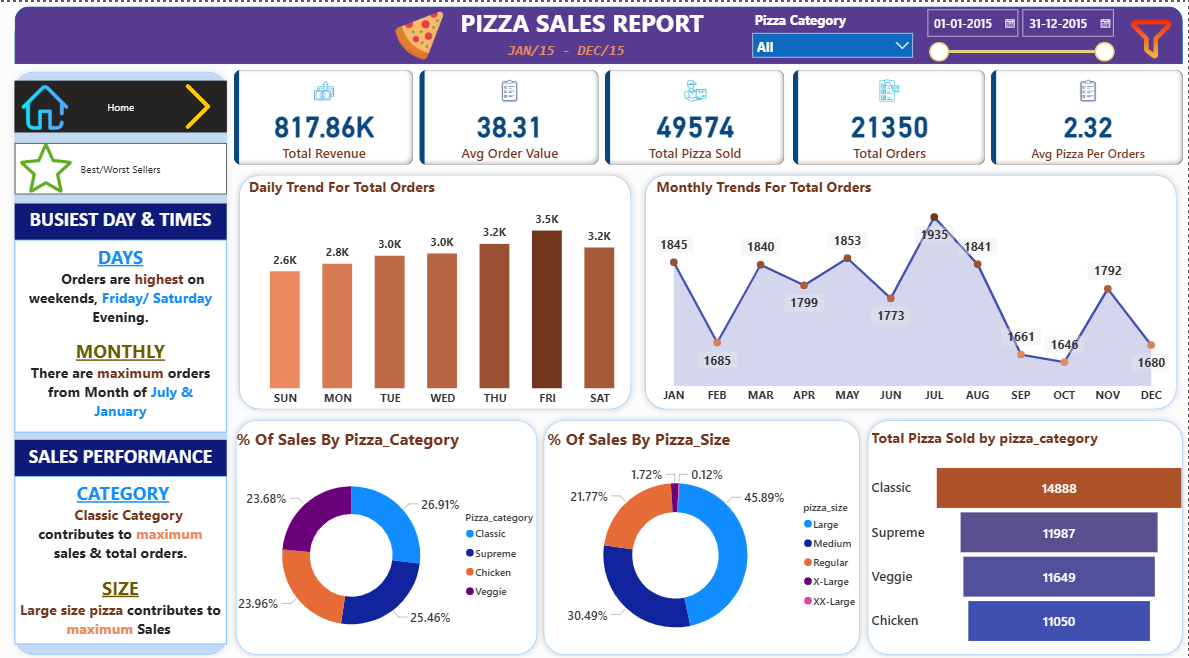

This screenshot's page, from the dashboard's own definition file:
{"tool":"powerbi","page":{"name":"Home","canvas":[1573,870],"ordinal":0},"visuals":[{"type":"cardVisual","fields":{"Data":["pizza_sales.Total Revenue","pizza_sales.Avg Order Value","pizza_sales.Total Pizza Sold"]},"box":[306,84,738,136],"z":0},{"type":"cardVisual","fields":{"Data":["pizza_sales.Total Orders","pizza_sales.Avg Pizza Per Orders"]},"box":[1044,84,526,136],"z":1000},{"type":"shape","box":[22,6,1542,76],"z":2000},{"type":"textbox","box":[588,0,366,56],"z":3000},{"type":"textbox","box":[668,48,182,34],"z":4000},{"type":"image","box":[512,6,88,76],"z":5000},{"type":"shape","box":[310,220,534,326],"z":6000},{"type":"columnChart","title":"Daily Trend For Total Orders","fields":{"Category":["pizza_sales.Order Day"],"Y":["pizza_sales.Total Orders"]},"box":[326,230,522,314],"z":7000},{"type":"shape","box":[846,220,718,326],"z":8000},{"type":"areaChart","title":"Monthly Trends For Total Orders","fields":{"Category":["pizza_sales.Order Month"],"Y":["pizza_sales.Total Orders"]},"box":[864,230,686,310],"z":9000},{"type":"shape","box":[306,544,414,326],"z":10000},{"type":"shape","box":[1140,544,432,326],"z":11000},{"type":"shape","box":[14,84,296,786],"z":12000},{"type":"shape","box":[712,544,434,326],"z":13000},{"type":"donutChart","title":"% Of Sales By Pizza_Size","fields":{"Y":["pizza_sales.Total Revenue"],"Category":["pizza_sales.pizza_size"]},"box":[720,562,430,308],"z":14000},{"type":"donutChart","title":"% Of Sales By Pizza_Category","fields":{"Y":["pizza_sales.Total Revenue"],"Category":["pizza_sales.pizza_category"]},"box":[310,562,424,308],"z":15000},{"type":"funnel","fields":{"Category":["pizza_sales.pizza_category"],"Y":["pizza_sales.Total Pizza Sold"]},"box":[1148,562,424,308],"z":16000},{"type":"textbox","box":[22,266,280,48],"z":17000},{"type":"textbox","box":[22,314,280,254],"z":18000},{"type":"textbox","box":[22,578,280,48],"z":19000},{"type":"textbox","box":[22,626,280,222],"z":20000},{"type":"slicer","fields":{"Values":["pizza_sales.pizza_category"]},"box":[986,6,232,74],"z":21000},{"type":"slicer","fields":{"Values":["pizza_sales.order_date"]},"box":[1214,0,268,84],"z":22000},{"type":"pageNavigator","box":[22,104,280,68],"z":23000},{"type":"pageNavigator","box":[22,186,280,68],"z":24000},{"type":"image","box":[226,102,76,72],"z":25000},{"type":"image","box":[26,96,72,86],"z":26000},{"type":"image","box":[24,180,78,78],"z":27000},{"type":"image","box":[1480,0,84,96],"z":28000}]}

Visuals, with their boxes in screenshot pixels (x1, y1, x2, y2), scaled from the page's 1573x870 canvas onto the 1189x658 screenshot:
cardVisual - pizza_sales.Total Revenue x pizza_sales.Avg Order Value: crop(231, 64, 789, 166)
cardVisual - pizza_sales.Total Orders x pizza_sales.Avg Pizza Per Orders: crop(789, 64, 1187, 166)
shape: crop(17, 5, 1182, 62)
textbox: crop(444, 0, 721, 42)
textbox: crop(505, 36, 642, 62)
image: crop(387, 5, 454, 62)
shape: crop(234, 166, 638, 413)
"Daily Trend For Total Orders" columnChart: crop(246, 174, 641, 411)
shape: crop(639, 166, 1182, 413)
"Monthly Trends For Total Orders" areaChart: crop(653, 174, 1172, 408)
shape: crop(231, 411, 544, 657)
shape: crop(862, 411, 1188, 657)
shape: crop(11, 64, 234, 657)
shape: crop(538, 411, 866, 657)
"% Of Sales By Pizza_Size" donutChart: crop(544, 425, 869, 657)
"% Of Sales By Pizza_Category" donutChart: crop(234, 425, 555, 657)
funnel - pizza_sales.pizza_category x pizza_sales.Total Pizza Sold: crop(868, 425, 1188, 657)
textbox: crop(17, 201, 228, 237)
textbox: crop(17, 237, 228, 430)
textbox: crop(17, 437, 228, 473)
textbox: crop(17, 473, 228, 641)
slicer - pizza_sales.pizza_category: crop(745, 5, 921, 61)
slicer - pizza_sales.order_date: crop(918, 0, 1120, 64)
pageNavigator: crop(17, 79, 228, 130)
pageNavigator: crop(17, 141, 228, 192)
image: crop(171, 77, 228, 132)
image: crop(20, 73, 74, 138)
image: crop(18, 136, 77, 195)
image: crop(1119, 0, 1182, 73)
